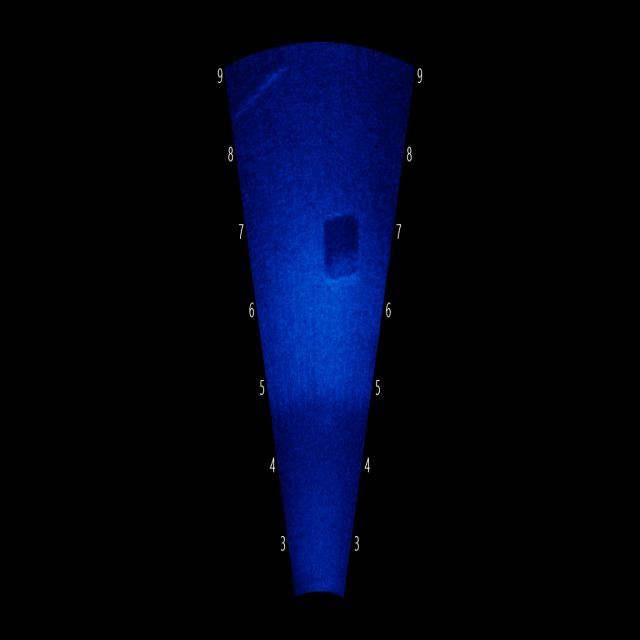square: (314, 195, 369, 301)
